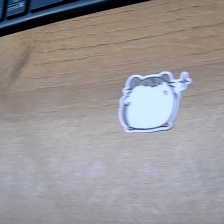mouse: (118, 71, 194, 134)
